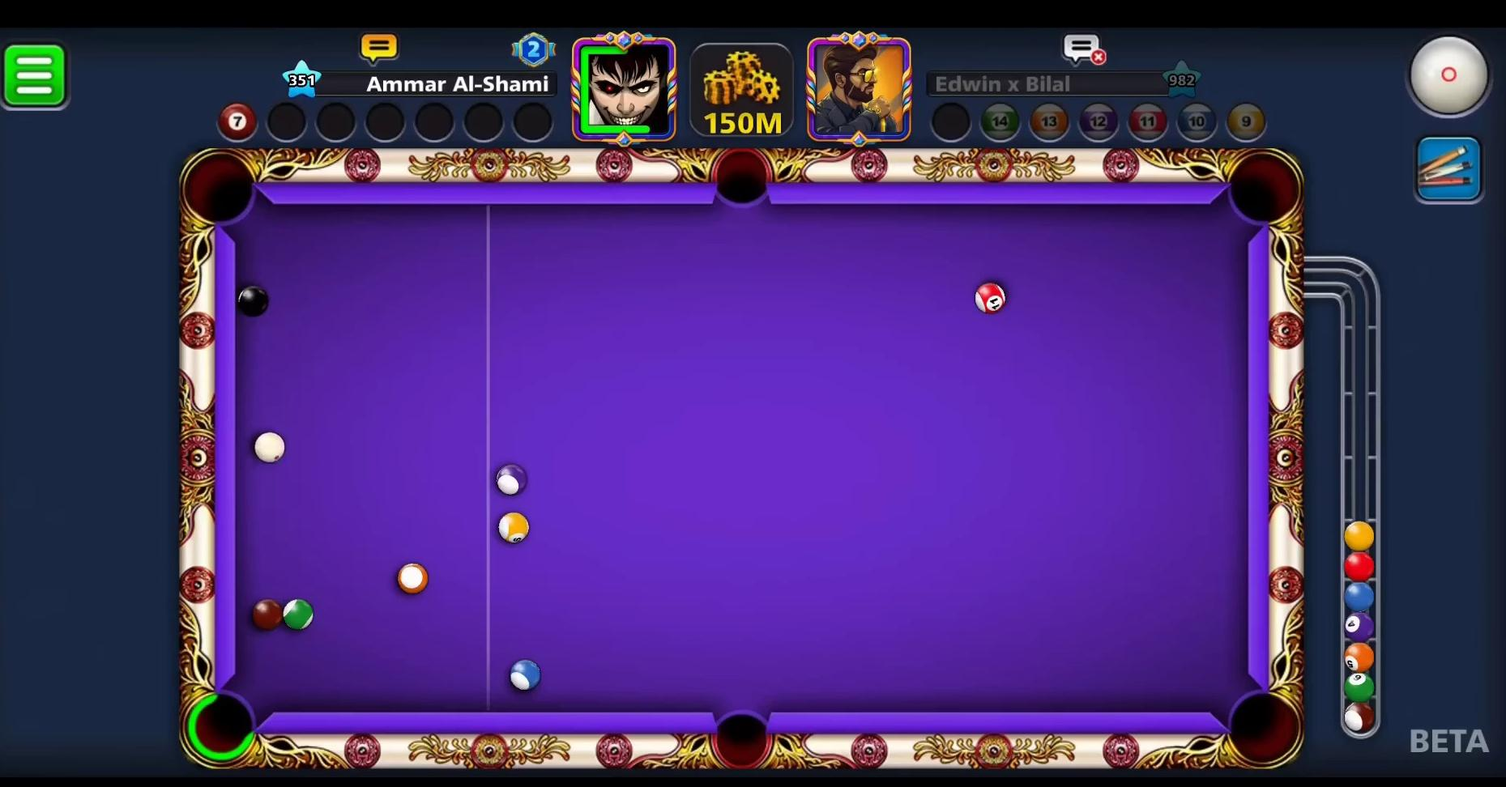Ball: (497, 653, 547, 698), (226, 282, 279, 322), (391, 562, 436, 603), (488, 459, 533, 498), (971, 277, 1009, 320), (245, 598, 288, 634), (494, 510, 535, 547)
Hole: (1210, 675, 1309, 776), (169, 679, 271, 774), (175, 143, 267, 236), (696, 688, 790, 775), (1217, 143, 1306, 234), (698, 142, 783, 219)
Play_Area: (232, 204, 1247, 717)
Spin: (1402, 28, 1504, 130)
White: (248, 428, 294, 466)
